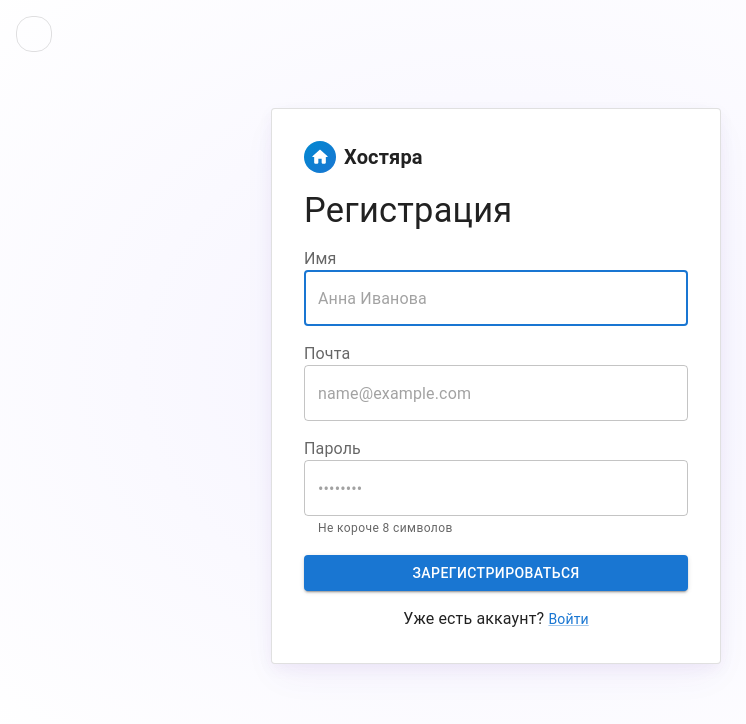
SignUpPage › shows the BFF's refusal as an alert
The width and height of the screenshot is (746, 724).
In the field labelled "Имя": point(496, 298) [304,270,688,326], type "Анна"
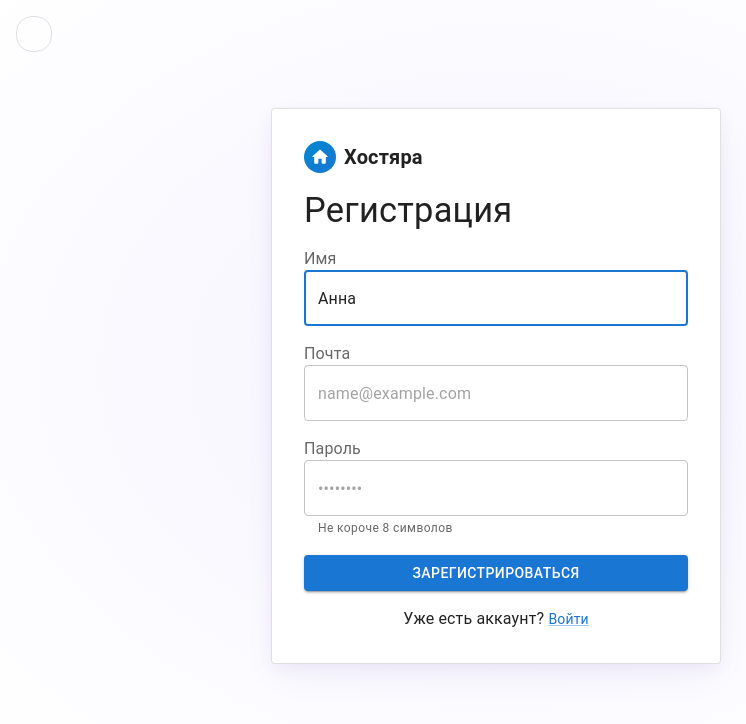
In the field labelled "Почта": point(496, 393) [304,365,688,421], type "anna@example.com"
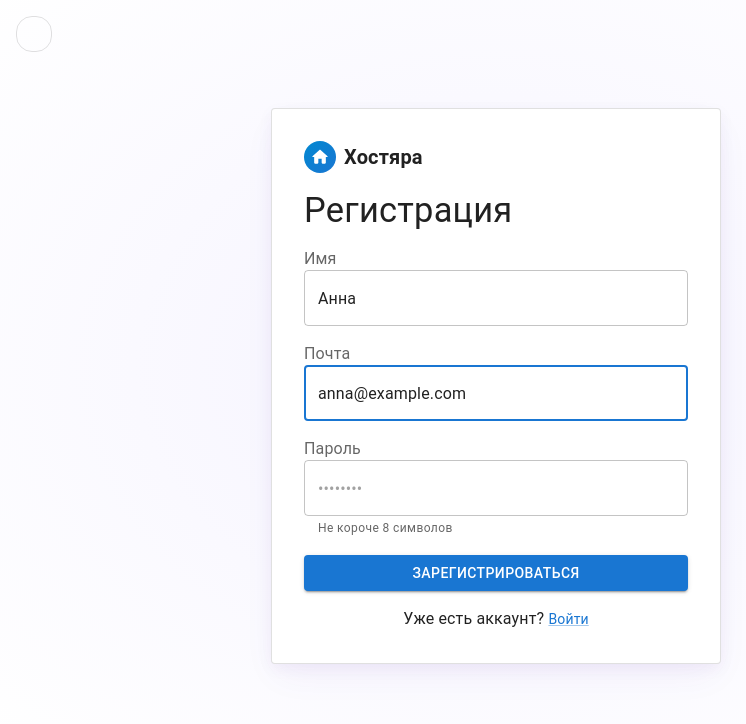
In the password field labelled "Пароль": point(496, 488) [304,460,688,516], type "correct-horse"
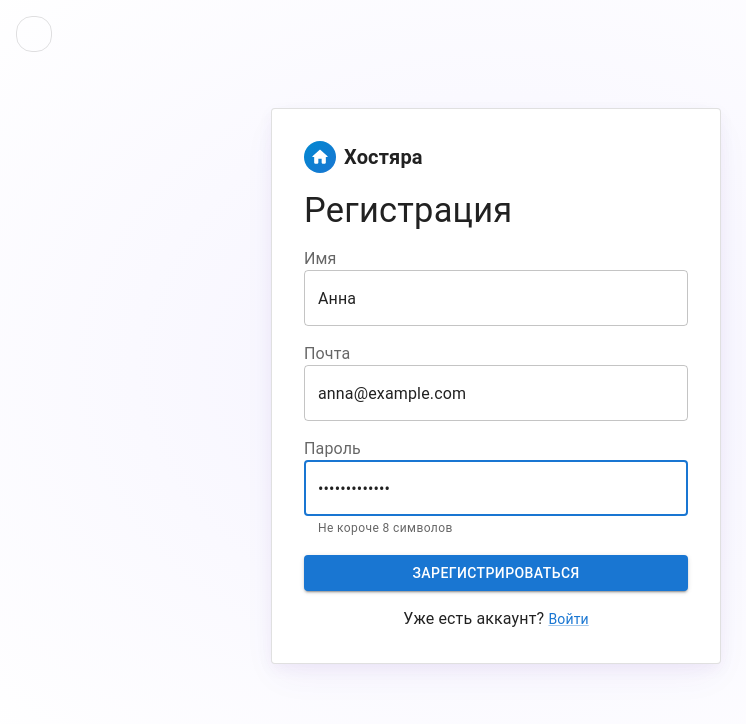
Click the button "Зарегистрироваться": point(496, 573) [304,555,688,591]
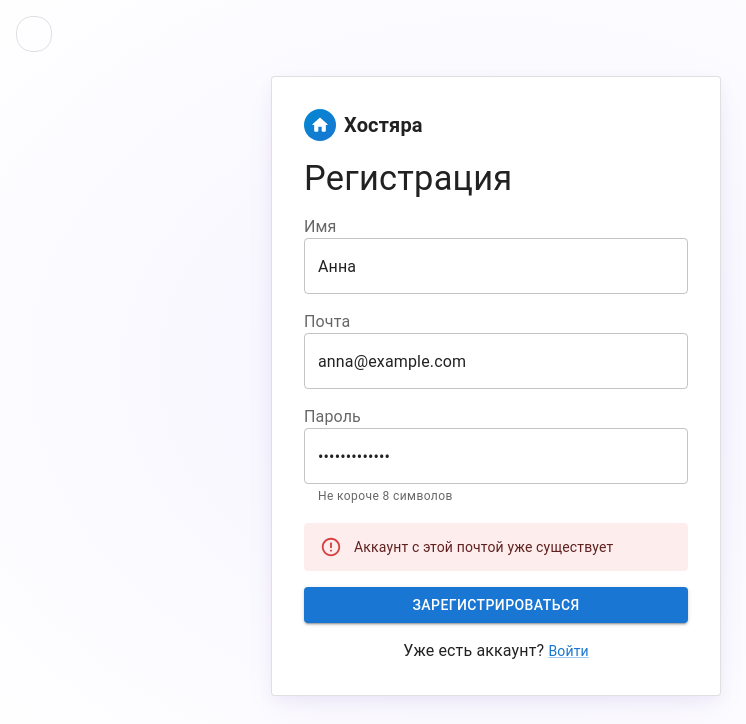
expect the message reads "Аккаунт с этой почтой уже существует": met, box [354,539,613,555]
